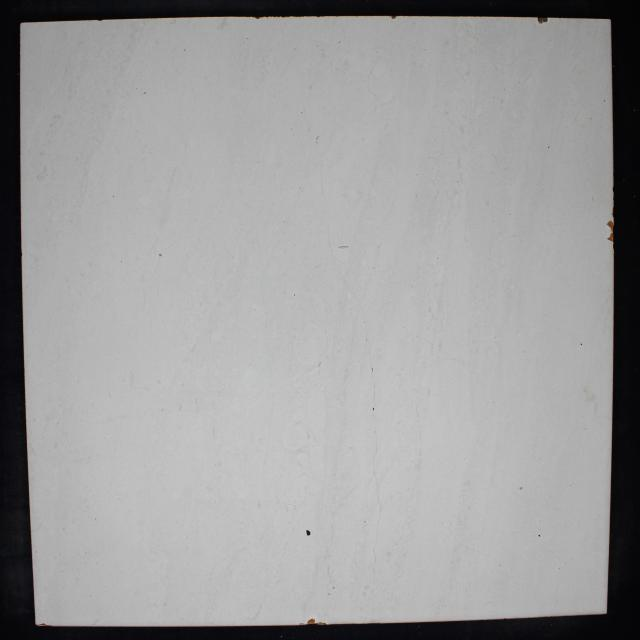edge-chipping: (606, 220, 614, 232), (537, 17, 548, 24), (35, 622, 54, 626), (607, 232, 614, 242), (307, 618, 315, 625), (316, 622, 327, 625), (299, 623, 307, 626), (612, 206, 614, 218), (391, 16, 397, 19), (612, 185, 614, 192), (255, 17, 260, 19), (97, 20, 103, 21)
hole: (306, 529, 311, 536), (519, 486, 523, 490), (143, 91, 147, 94), (538, 534, 540, 537), (159, 254, 162, 256), (581, 344, 582, 346)
line: (372, 454, 382, 579), (345, 282, 366, 316), (371, 367, 378, 452), (363, 319, 374, 365), (332, 249, 344, 279), (326, 230, 332, 247)
